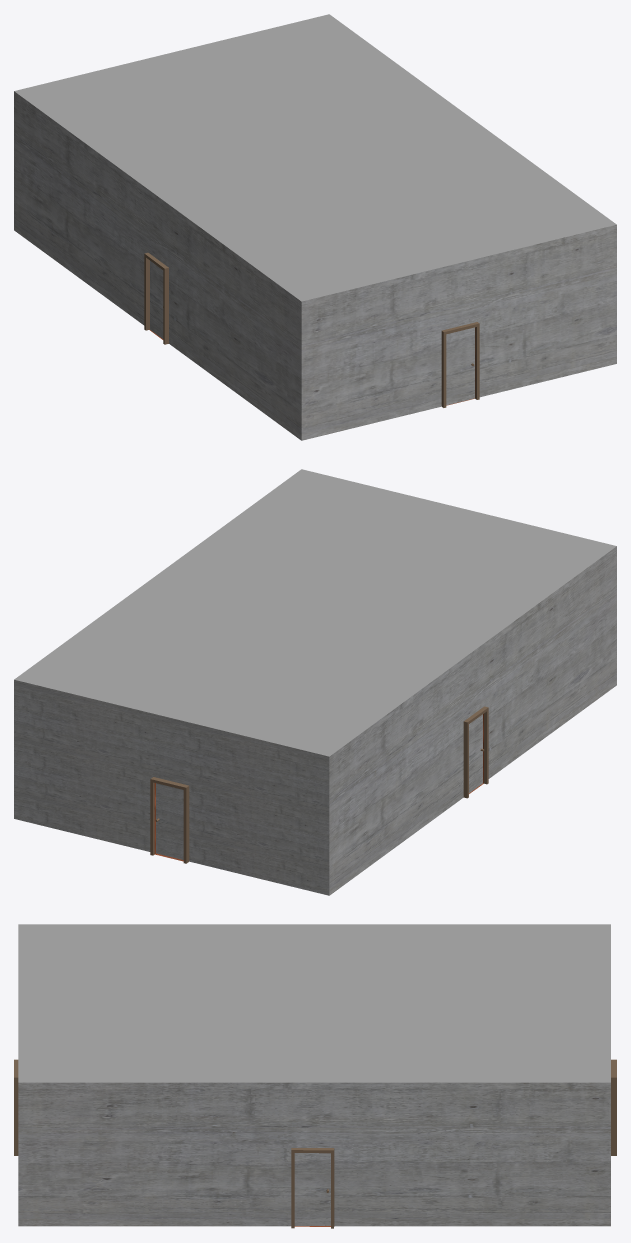
Rendered from Lobby_Room_2_Textured.fbx.
3 views of the same model, one above another, from view 1: azimuth 30°, elevation 25°; view 2: azimuth 150°, elevation 25°; view 3: azimuth 270°, elevation 25° (orthographic). The views are drawn at different scales.
Visible parts, largest first — view 1: pCube2, pCube3, Door:pCube3; view 2: pCube2, pCube3 (×2); view 3: pCube2, pCube3 (×2), Door:pCube3.
Part boxes in pixels (x1,y1,x2,y2): pCube2: (14, 14, 616, 440); pCube3: (144, 252, 168, 344); Door:pCube3: (441, 322, 479, 407); pCube2: (14, 469, 616, 895); pCube3 (×2): (150, 706, 488, 863); pCube2: (18, 924, 610, 1226); pCube3 (×2): (291, 1059, 616, 1228); Door:pCube3: (14, 1059, 18, 1155).
Bounding box in the file's own units: 9.67 × 3.96 × 15.11.
5 materials, 3 textured.
